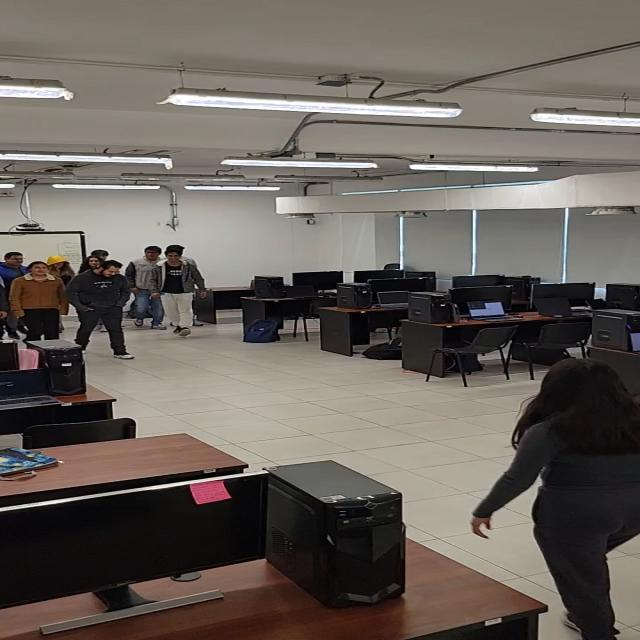Persona: (509, 354, 640, 626), (138, 246, 220, 333), (66, 252, 133, 350), (15, 253, 52, 356)
